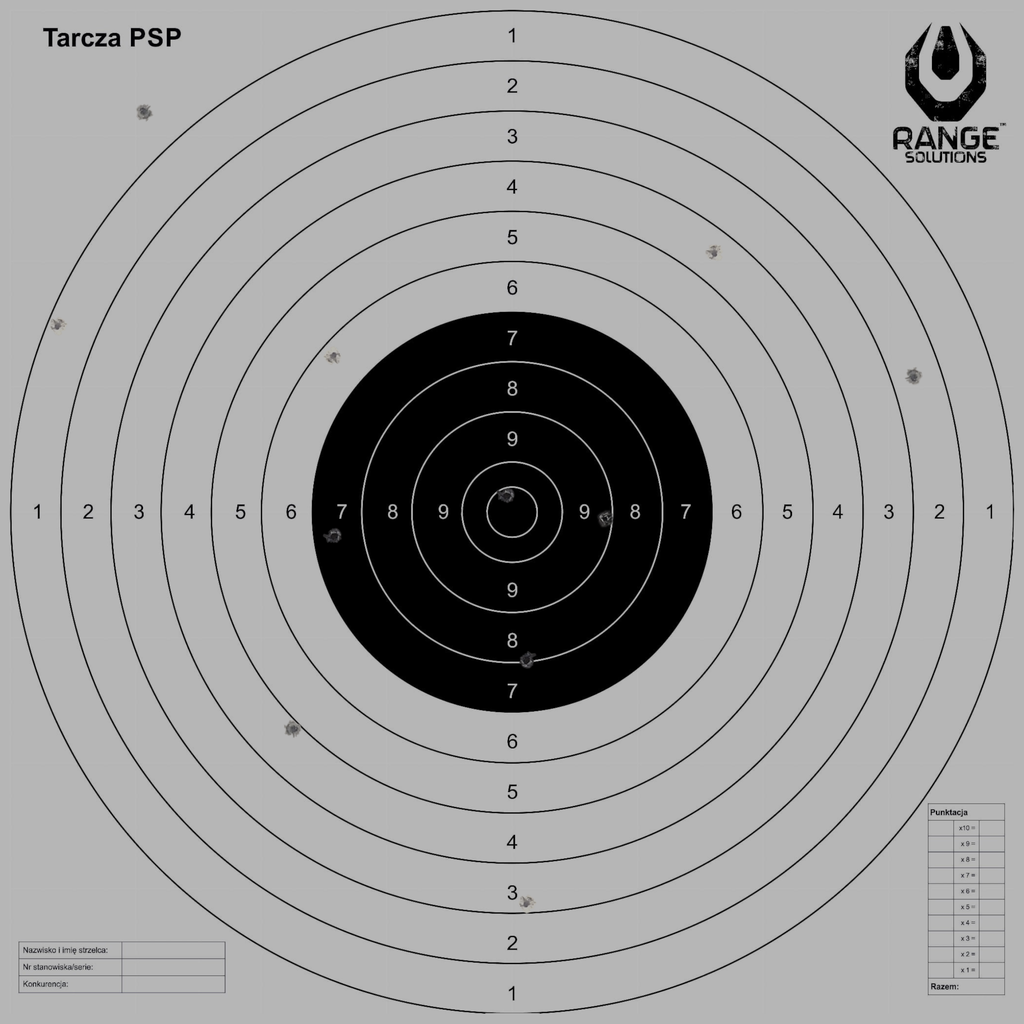0 punktow: (135, 103, 153, 121)
1 punkt: (48, 317, 67, 335)
10 punktow: (497, 487, 516, 505)
2 punkty: (905, 368, 923, 386)
3 punkty: (517, 894, 536, 913)
4 punkty: (705, 244, 723, 262)
5 punktow: (284, 720, 303, 738)
6 punktow: (324, 347, 343, 365)
7 punktow: (325, 527, 343, 545)
8 punktow: (518, 651, 536, 669)
9 punktow: (595, 509, 614, 528)
